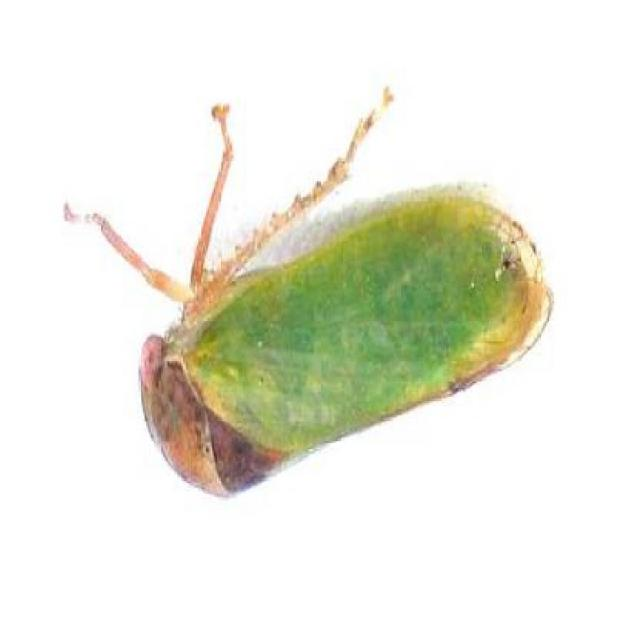green-leafhopper: (128, 193, 554, 504)
